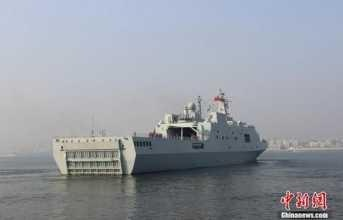warship: (56, 89, 268, 176)
